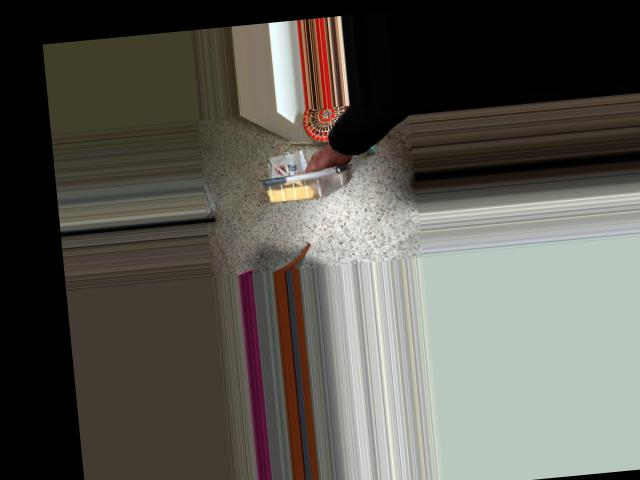cheese: (258, 147, 350, 214)
